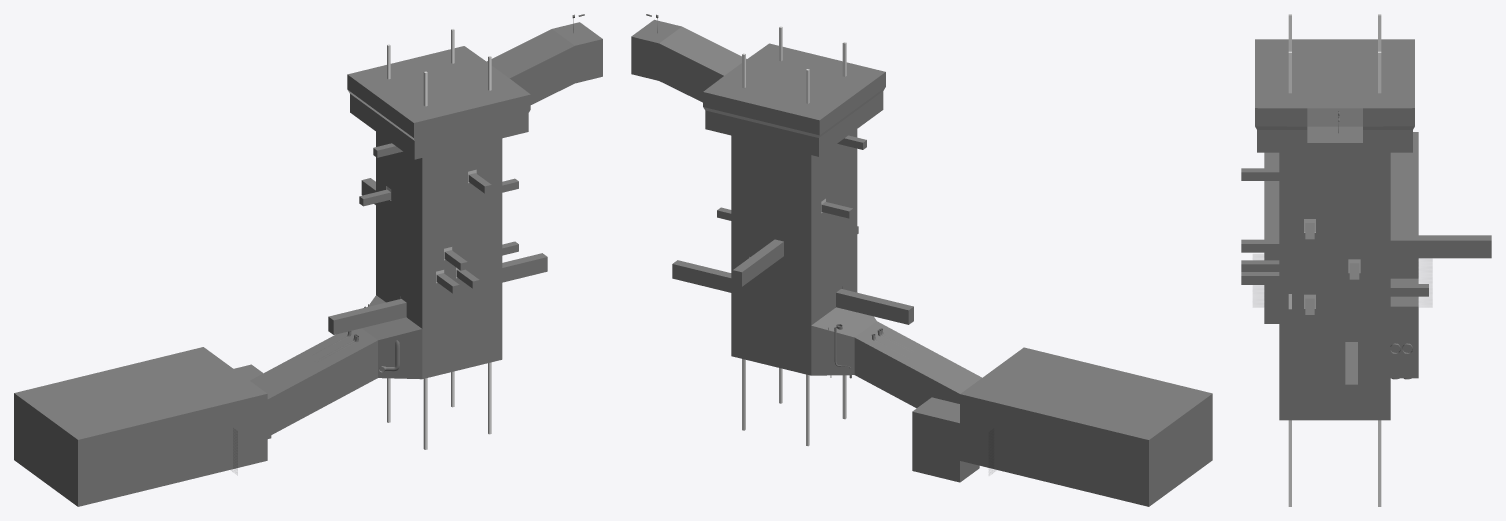
File: warehouse_2.gltf
3 views of the same model, side by side, from view 1: azimuth 30°, elevation 25°; view 2: azimuth 150°, elevation 25°; view 3: azimuth 270°, elevation 25° (orthographic). The views are drawn at different scales.
Parts seen in each view (by area): view 1: Cube -col, Plane -col.005, Plane -col.008, Plane -col.003, Plane -col.001, Plane.004 -col.026, Plane.004 -col.018, Plane -col.004, Plane.004 -col.011, Plane -col.007, Plane -col.006, Plane.004 -col.019 (+1 smaller); view 2: Cube -col, Plane -col.005, Plane -col.008, Plane -col.003, Plane -col.001, Plane.004 -col.020, Plane -col.002, Plane.004 -col.018, Plane.004 -col.009, Plane.004 -col.019, Plane -col.004, Plane -col.006 (+3 smaller); view 3: Cube -col, Plane -col.008, Plane -col.005, Plane.004 -col.009, Plane -col.003, Plane.004 -col.011, Plane.004 -col.026, Plane -col.002, Plane.004 -col.004, Plane.004 -col.016, Plane.004 -col.019, Plane -col.001 (+17 smaller).
Part boxes in pixels (x1,y1,x2,y2): Cube -col: [14, 22, 602, 506]; Plane -col.005: [376, 190, 502, 244]; Plane -col.008: [376, 253, 502, 307]; Plane -col.003: [376, 161, 502, 211]; Plane -col.001: [376, 132, 502, 182]; Plane.004 -col.026: [422, 288, 502, 328]; Plane.004 -col.018: [328, 291, 408, 334]; Plane -col.004: [422, 192, 502, 223]; Plane.004 -col.011: [454, 226, 502, 256]; Plane -col.007: [376, 232, 502, 274]; Plane -col.006: [376, 211, 422, 265]; Plane.004 -col.019: [502, 253, 547, 282]; Cube -col: [631, 19, 1212, 506]; Plane -col.005: [731, 188, 857, 241]; Plane -col.008: [731, 250, 857, 304]; Plane -col.003: [731, 158, 857, 208]; Plane -col.001: [731, 129, 857, 179]; Plane.004 -col.020: [731, 285, 811, 325]; Plane -col.002: [731, 148, 857, 191]; Plane.004 -col.018: [834, 281, 913, 324]; Plane.004 -col.009: [733, 232, 787, 286]; Plane.004 -col.019: [672, 260, 731, 292]; Plane -col.004: [731, 189, 811, 220]; Plane -col.006: [811, 208, 857, 262]; Cube -col: [1255, 39, 1418, 420]; Plane -col.008: [1279, 309, 1390, 334]; Plane -col.005: [1279, 233, 1390, 258]; Plane.004 -col.009: [1390, 235, 1491, 258]; Plane -col.003: [1279, 198, 1390, 218]; Plane.004 -col.011: [1279, 258, 1345, 283]; Plane.004 -col.026: [1279, 334, 1340, 359]; Plane -col.002: [1279, 183, 1390, 198]; Plane.004 -col.004: [1318, 218, 1390, 233]; Plane.004 -col.016: [1318, 294, 1390, 309]; Plane.004 -col.019: [1340, 334, 1362, 402]; Plane -col.001: [1279, 163, 1390, 182].
Size of the model in its own units: 136 by 90.35 by 45.03.
